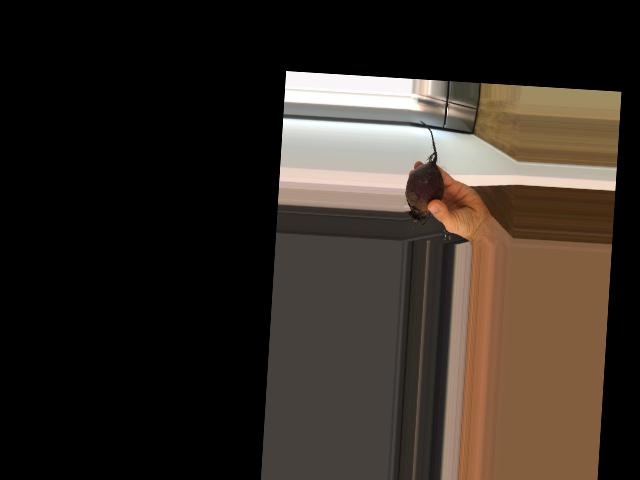beet: (403, 120, 447, 227)
